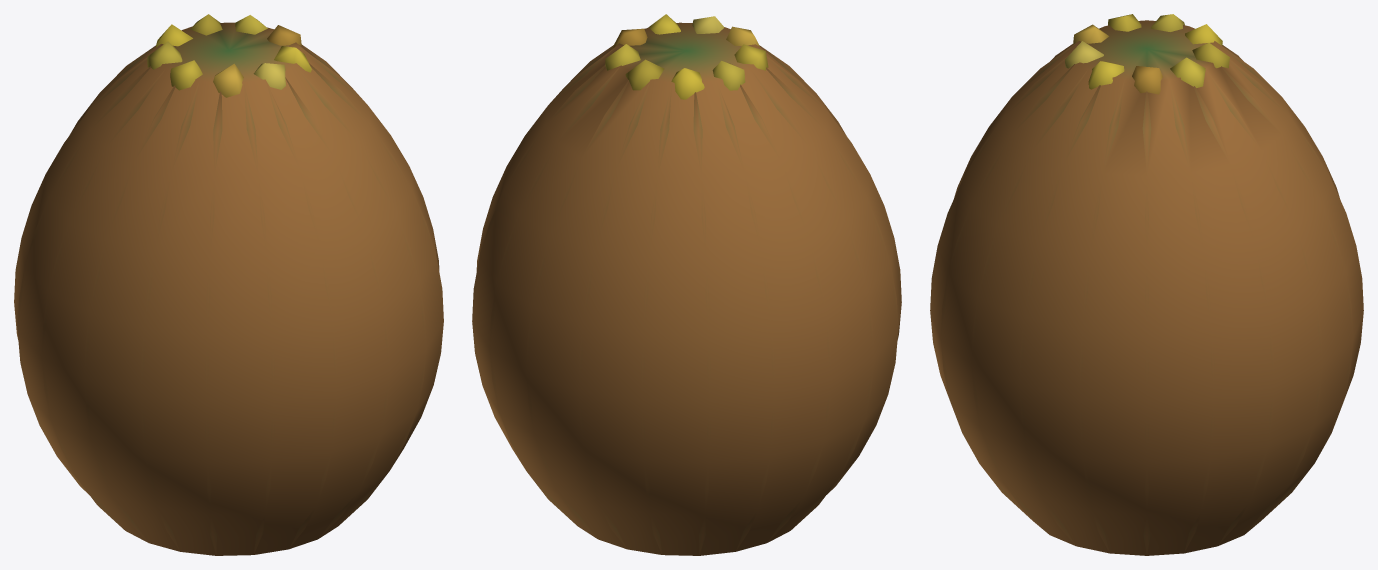
File: barrel-cactus.glb
3 views of the same model, side by side, from view 1: azimuth 30°, elevation 25°; view 2: azimuth 150°, elevation 25°; view 3: azimuth 270°, elevation 25° (orthographic).
Parts seen in each view (by area): view 1: barrel-cactus-lo, barrel-cactus; view 2: barrel-cactus-lo, barrel-cactus; view 3: barrel-cactus-lo, barrel-cactus.
Boxes of the visible parts, left/top/right/bottom form: barrel-cactus-lo: left=14, top=22, right=443, bottom=555; barrel-cactus: left=14, top=14, right=443, bottom=555; barrel-cactus-lo: left=472, top=22, right=901, bottom=555; barrel-cactus: left=472, top=14, right=901, bottom=555; barrel-cactus-lo: left=930, top=20, right=1363, bottom=555; barrel-cactus: left=930, top=14, right=1363, bottom=554.
Bounding box in the file's own units: 0.8655 × 1.03 × 0.8657.
